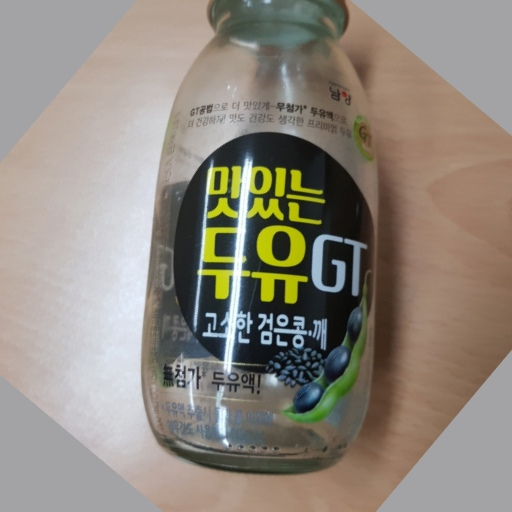Glass_4: (141, 1, 382, 473)
